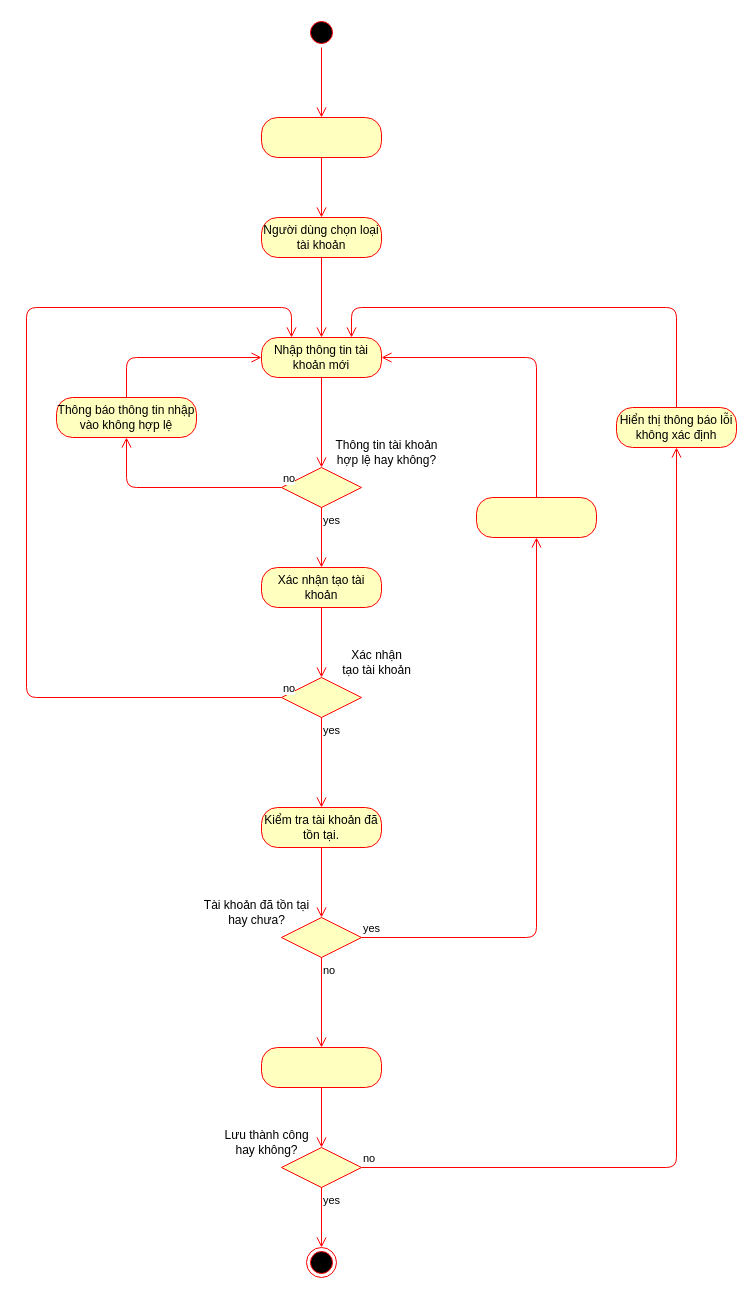
This 754x1295 diagram has some shape labels left out. Here are the shapes that lost their labels. From the top down, the centre of each, then its label:
At [321,137]: "Người dùng chọn thêm tài khoản".
At [536,517]: "Thông báo tài khoản đã tồn tại".
At [321,1067]: "Lưu thông tin tài khoản".
